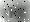person: (10, 8, 16, 19)
